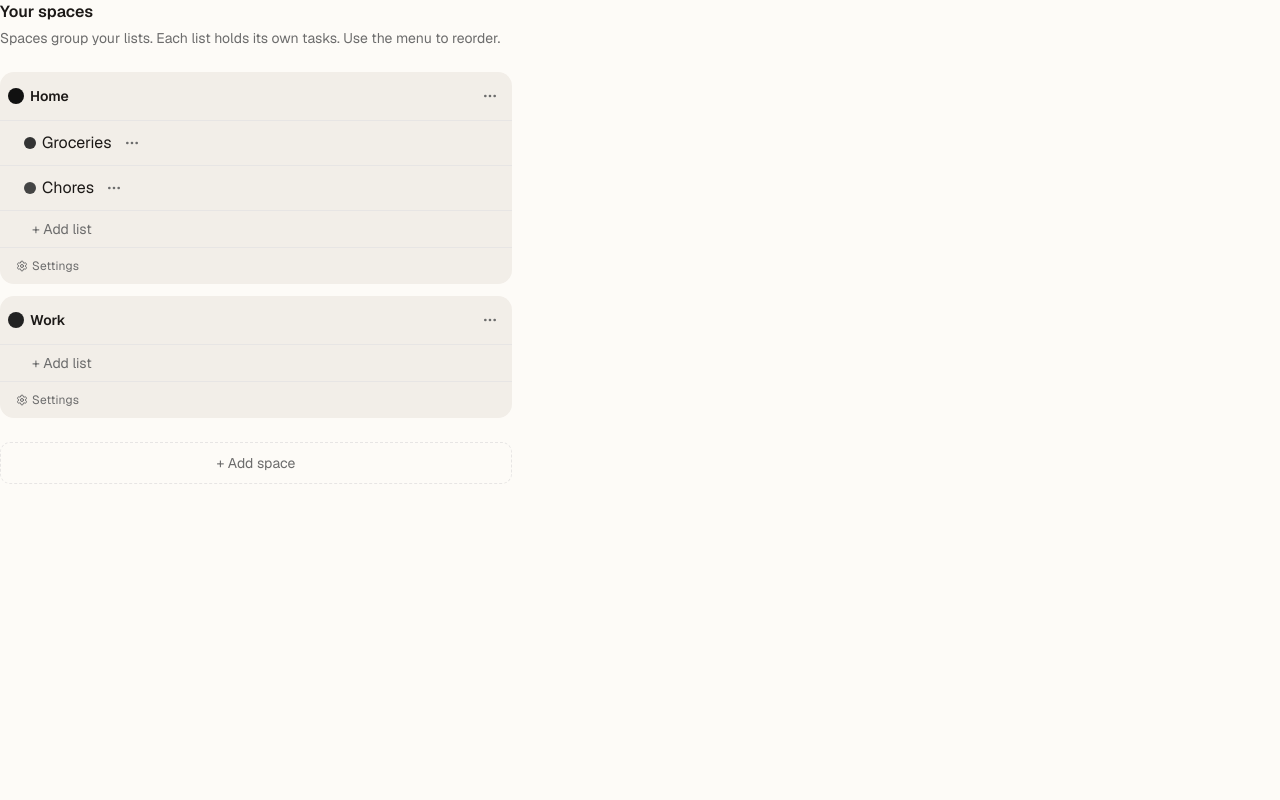
Test: SpaceListManager delete and leave › swaps in the counts the server sends once they arrive
This screenshot has width=1280, height=800.
Press the mouse on the button named "More actions for Home" at (490, 96), box [476,82,504,110]
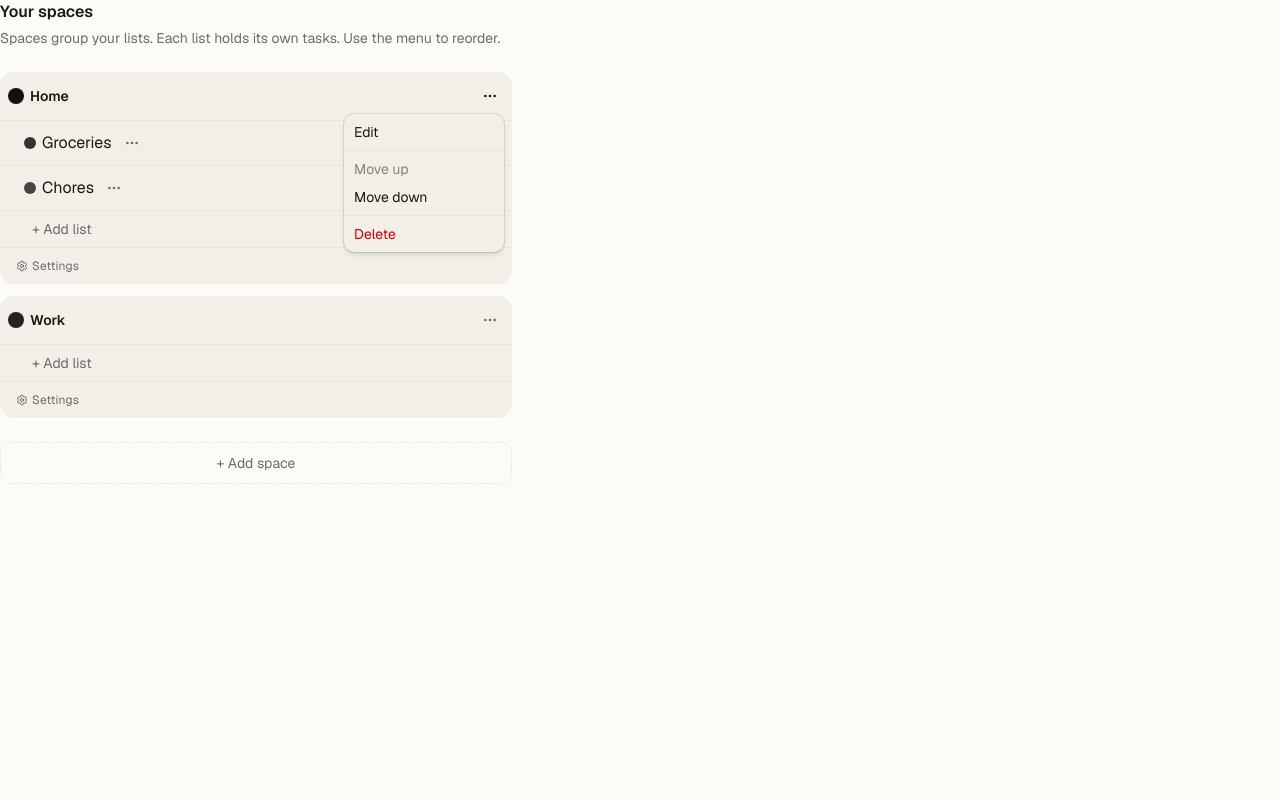
Click the menu item "Delete" at (375, 234), box [354,225,396,243]
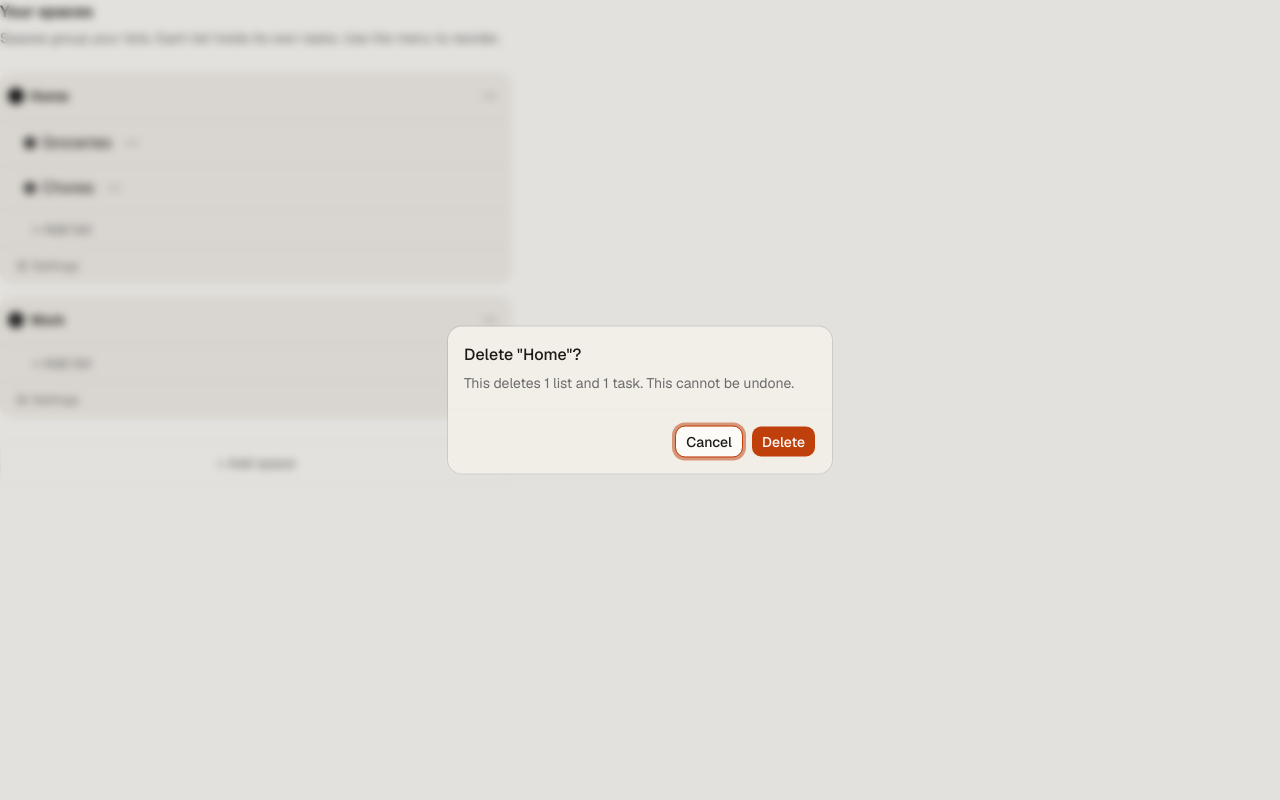
Now the text "This deletes 1 list and 1 task. This cannot be undone." is shown, box [464,372,794,392]
